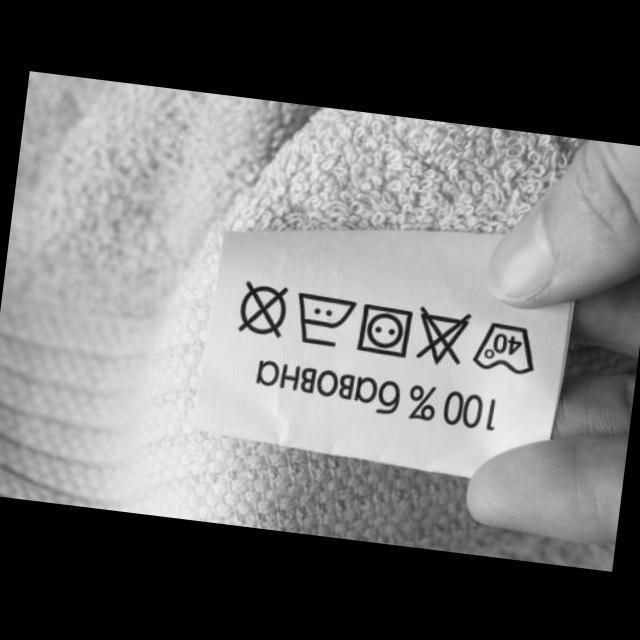40C: (468, 312, 542, 380)
DN_bleach: (406, 301, 474, 372)
DN_dry_clean: (230, 275, 294, 341)
iron_medium: (286, 286, 360, 353)
tumble_dry_medium: (350, 296, 417, 362)
